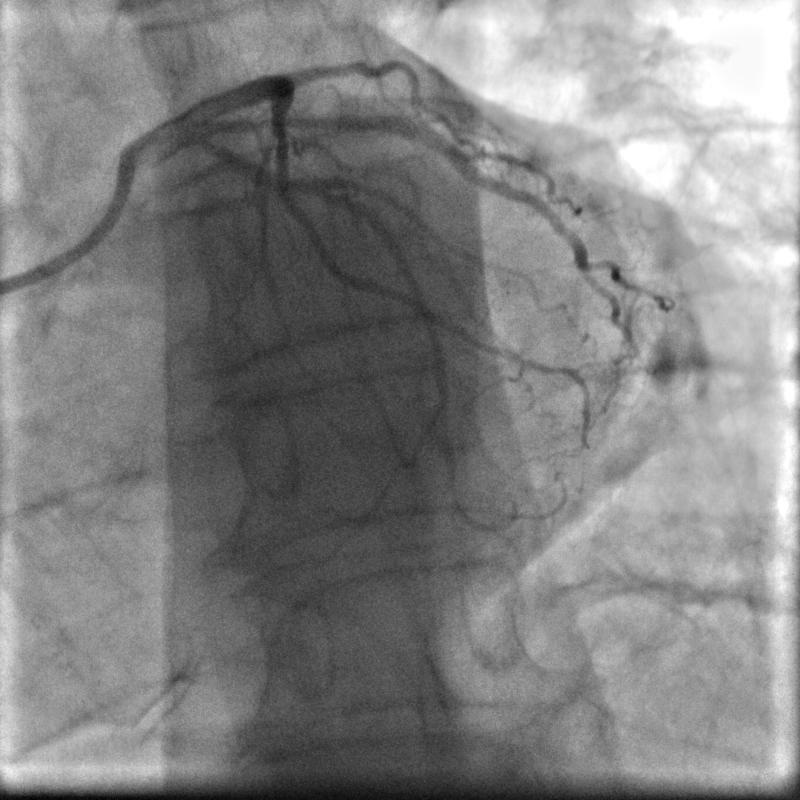Stenosis: (269, 98, 294, 155)
